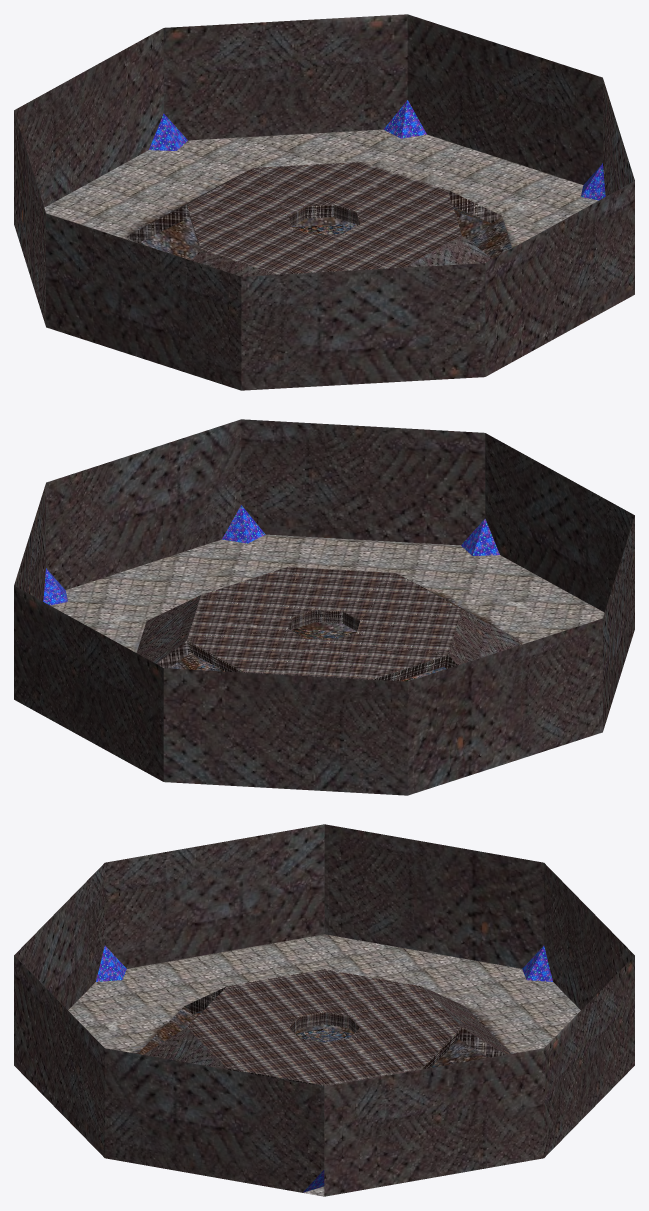
File: arena.obj
3 renders of one model, top to bottom at view 1: azimuth 30°, elevation 25°; view 2: azimuth 150°, elevation 25°; view 3: azimuth 270°, elevation 25°, orthographic. The views are drawn at different scales.
Visible parts, largest first — view 1: Arena.005_Cylinder.006; view 2: Arena.005_Cylinder.006; view 3: Arena.005_Cylinder.006.
Part boxes in pixels (bbox=[...]): Arena.005_Cylinder.006: bbox=[14, 14, 634, 390]; Arena.005_Cylinder.006: bbox=[14, 419, 634, 795]; Arena.005_Cylinder.006: bbox=[14, 824, 634, 1196].
Size of the model in its own units: 33.51 by 7.81 by 33.51.
